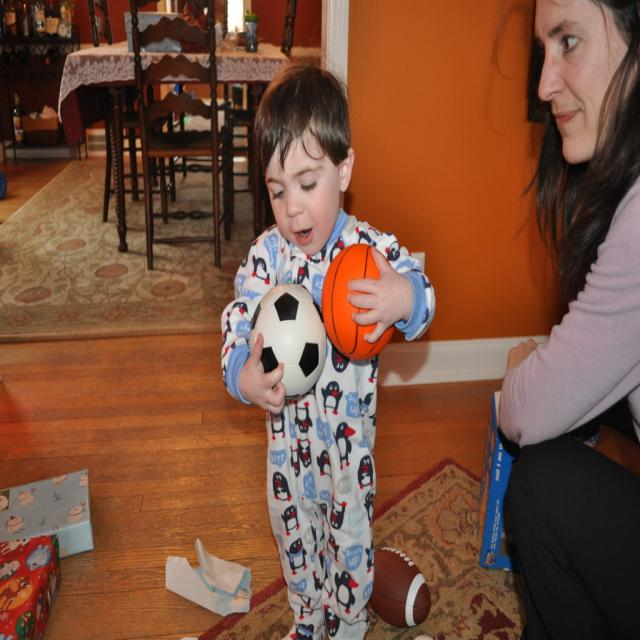ball: (247, 280, 329, 405), (320, 240, 400, 364), (366, 543, 436, 631)
